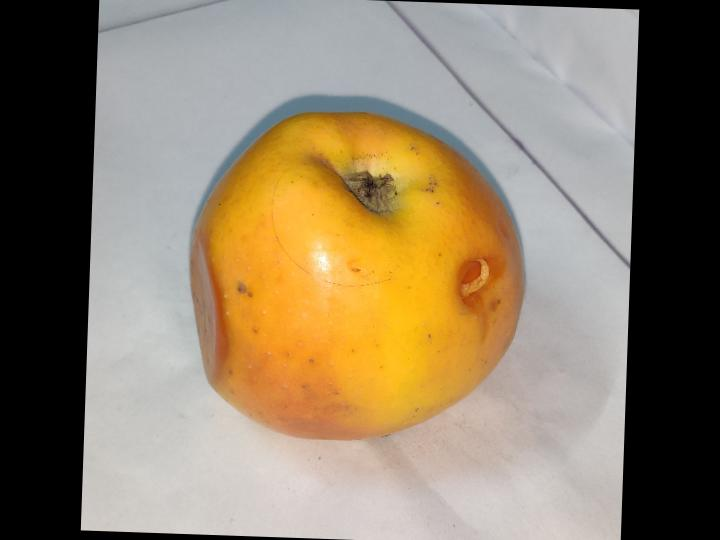apple: (190, 111, 523, 439)
bruise_discoloration: (190, 210, 228, 384)
surface_damage: (458, 257, 504, 340)
